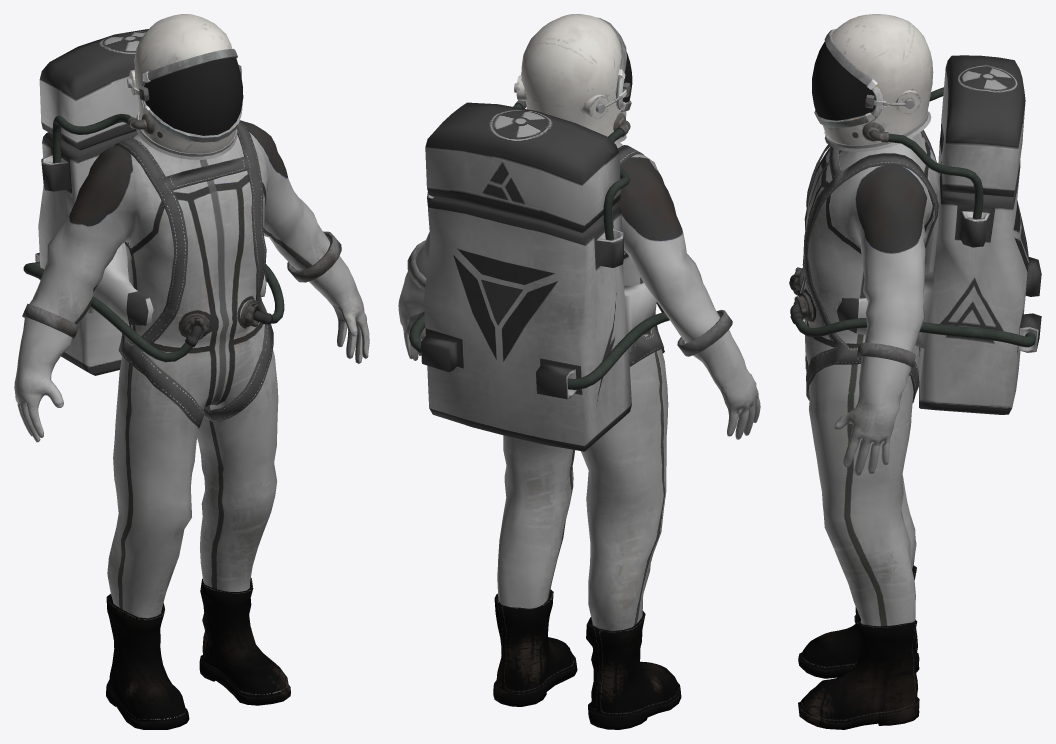
The model's file is astronaut.glb.
The picture shows the model from 3 angles, left to right: view 1: azimuth 30°, elevation 25°; view 2: azimuth 150°, elevation 25°; view 3: azimuth 270°, elevation 25°; orthographic projection.
Parts seen in each view (by area): view 1: body, oxigen_harness, boots_air, helmet; view 2: oxigen_harness, body, boots_air, helmet; view 3: body, oxigen_harness, boots_air, helmet.
Boxes of the visible parts, x1,y1,x2,y2 form: body: (14,120,369,618); oxigen_harness: (35,29,273,428); boots_air: (23,114,290,729); helmet: (127,14,243,159); oxigen_harness: (421,102,664,451); body: (398,142,760,631); boots_air: (409,103,681,729); helmet: (514,14,632,143); body: (793,132,938,626); oxigen_harness: (803,55,1041,414); boots_air: (789,87,1035,729); helmet: (812,14,933,151).
Bounding box in the file's own units: 1.75 × 3.25 × 1.1.
Materials: 4 (4 with a texture image).
